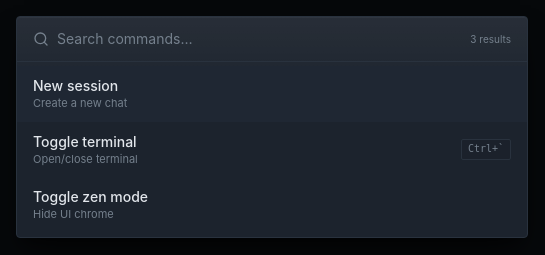
Test case: CommandPalette › filters commands by label
The image size is (545, 255).
Type "terminal" into the field with placeholder "Search commands…". click: (260, 39)
box: [57, 29, 462, 49]
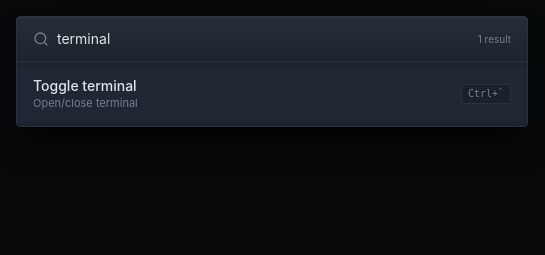
Check: the text "Toggle terminal" is shown, box [33, 77, 137, 94]
Check: the option "New session" is gone
